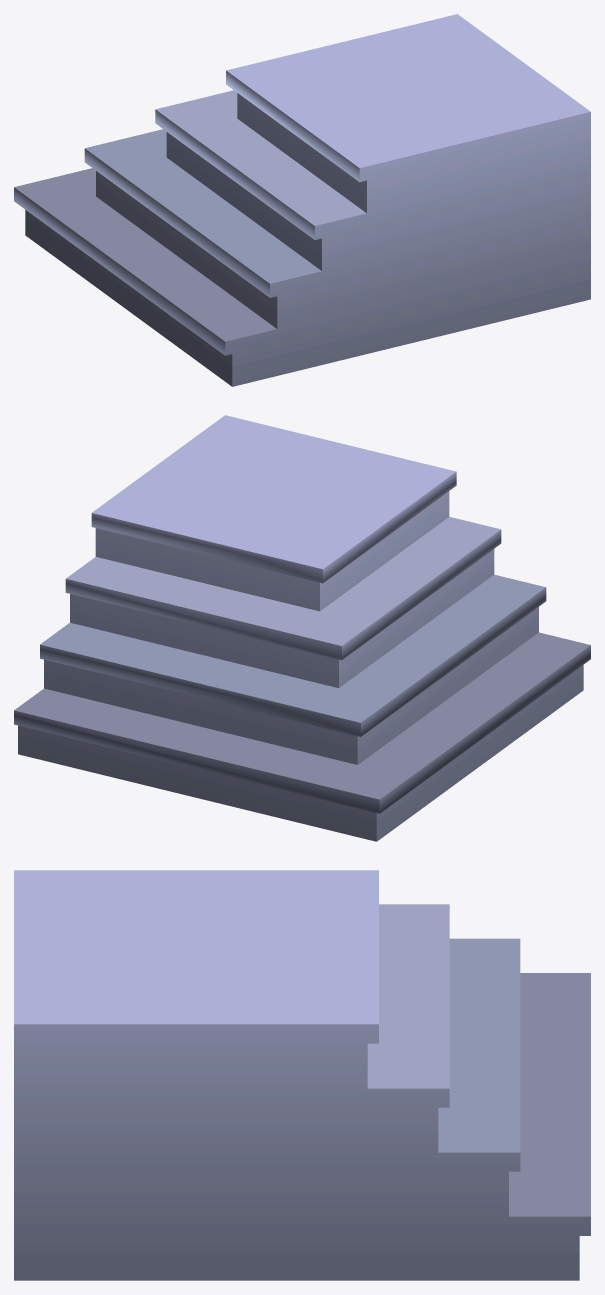
The model's file is stairs-full-corner-outer.glb.
3 views of the same model, one above another, from view 1: azimuth 30°, elevation 25°; view 2: azimuth 150°, elevation 25°; view 3: azimuth 270°, elevation 25° (orthographic). The views are drawn at different scales.
Visible parts, largest first — view 1: stairs-full-corner-outer; view 2: stairs-full-corner-outer; view 3: stairs-full-corner-outer.
Part boxes in pixels (x1,y1,x2,y2): stairs-full-corner-outer: [14, 14, 590, 386]; stairs-full-corner-outer: [14, 415, 590, 841]; stairs-full-corner-outer: [14, 870, 590, 1280].
Size of the model in its own units: 1.02 by 0.5 by 1.02.
Materials: 1 (1 with a texture image).
